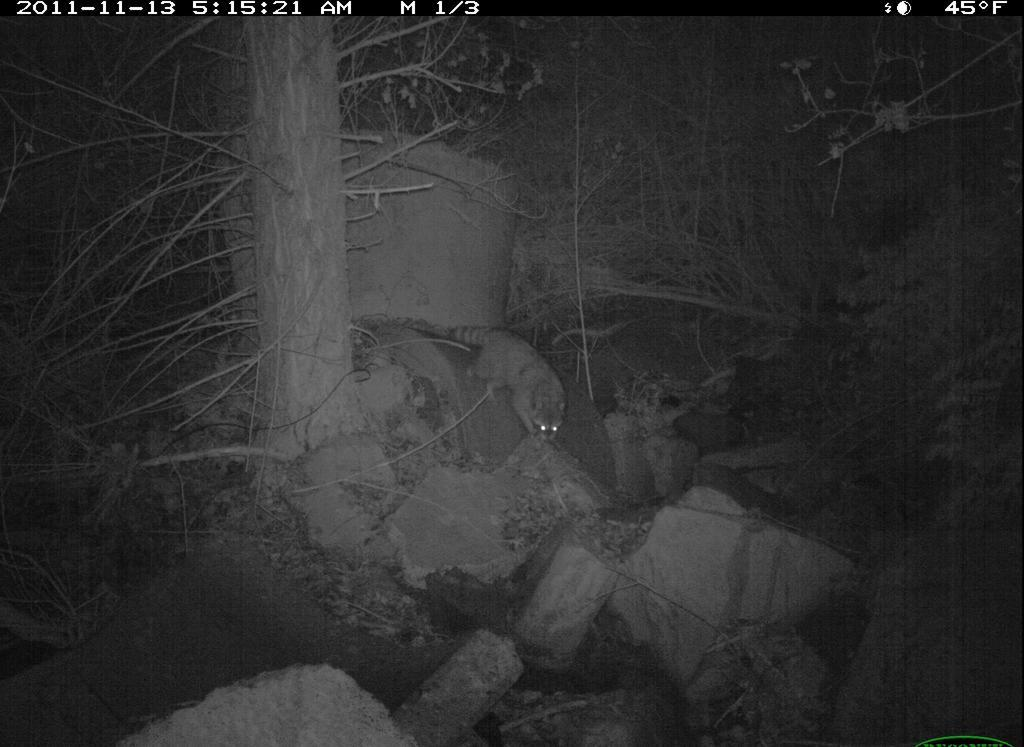raccoon: (411, 304, 568, 451)
